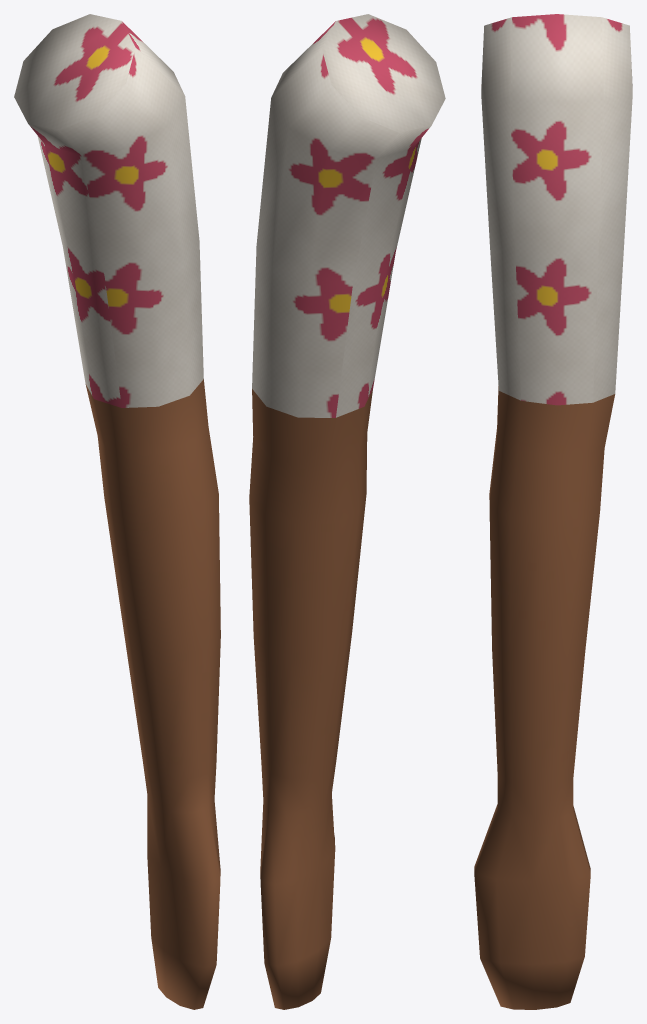
The model's file is brazoizq.obj.
3 renders of one model, left to right at view 1: azimuth 30°, elevation 25°; view 2: azimuth 150°, elevation 25°; view 3: azimuth 270°, elevation 25°, orthographic. The views are drawn at different scales.
Parts seen in each view (by area): view 1: BrazoIzq; view 2: BrazoIzq; view 3: BrazoIzq.
Part boxes in pixels (bbox=[...]): BrazoIzq: bbox=[14, 14, 220, 1009]; BrazoIzq: bbox=[249, 14, 445, 1009]; BrazoIzq: bbox=[474, 14, 632, 1009].
Size of the model in its own units: 0.1227 by 0.648 by 0.0962.
Materials: 2 (2 with a texture image).
